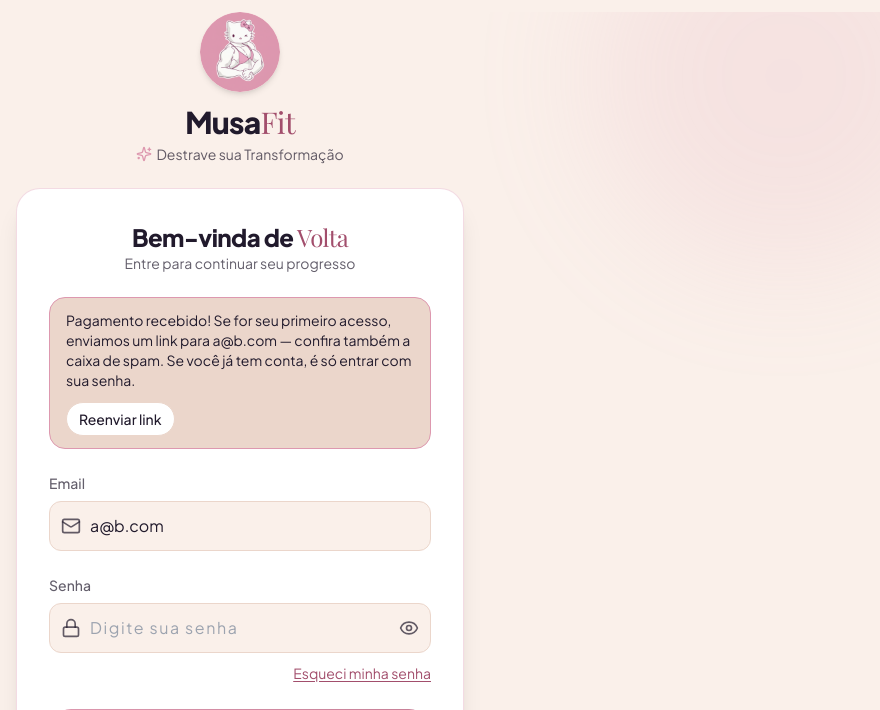
Test: Login page › depois do pagamento (?pago=1) › se o reenvio falha, mostra o erro e não trava o botão
The width and height of the screenshot is (880, 710).
What coordinates should you click on to do the following:
click the button "Reenviar link"
I would click on:
 (120, 419)
Its box is [66,402,174,436].
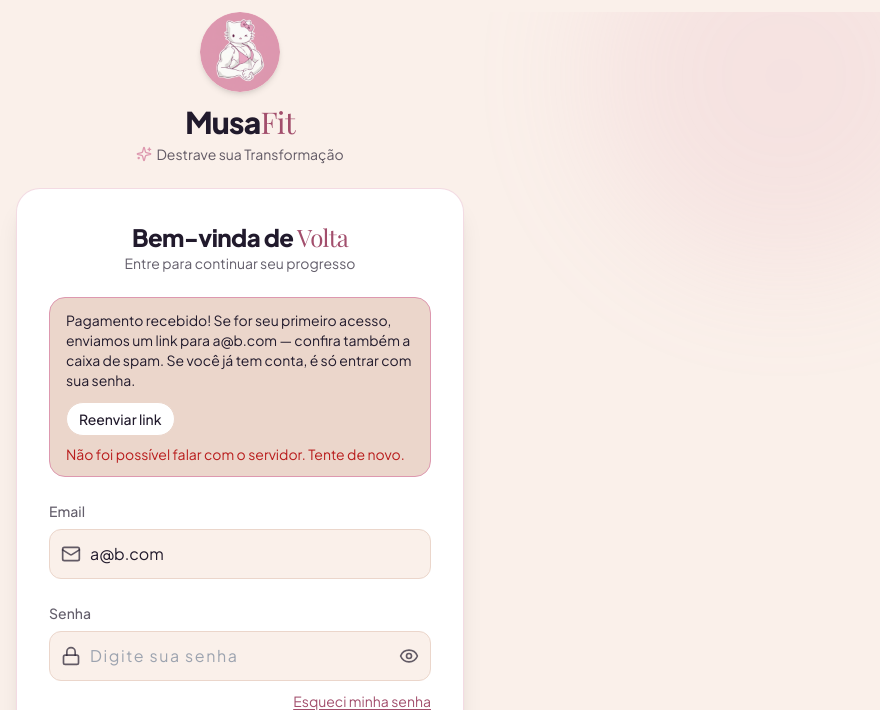
Expected: the text "Não foi possível falar com o servidor. Tente de novo." is shown, [66,444,414,464]
